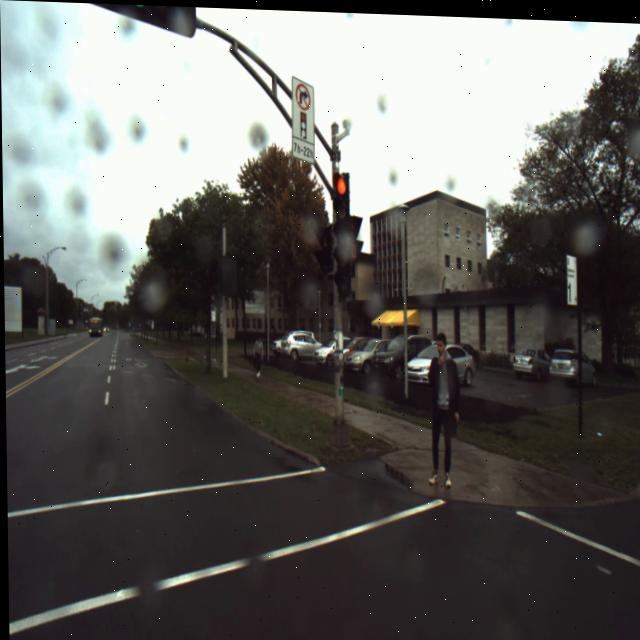pedestrian: (429, 332, 456, 489), (249, 327, 265, 375)
trafficLight-Red: (330, 170, 353, 218)
truck: (87, 315, 102, 339)
